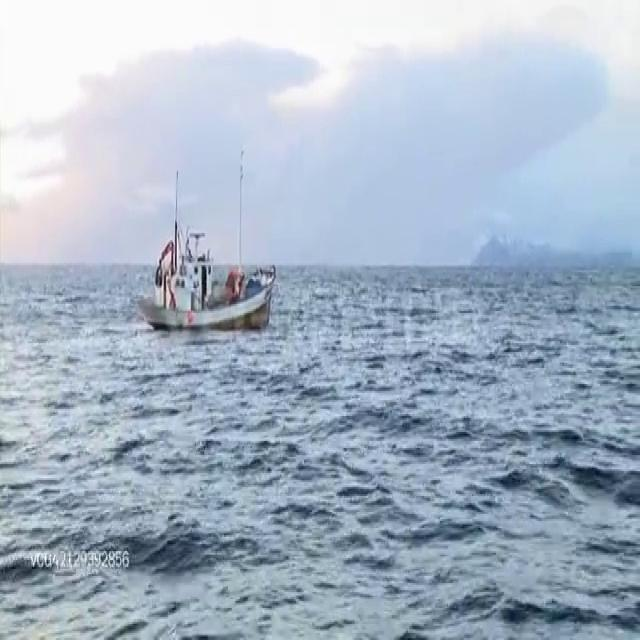fishing boat: (136, 164, 276, 327)
